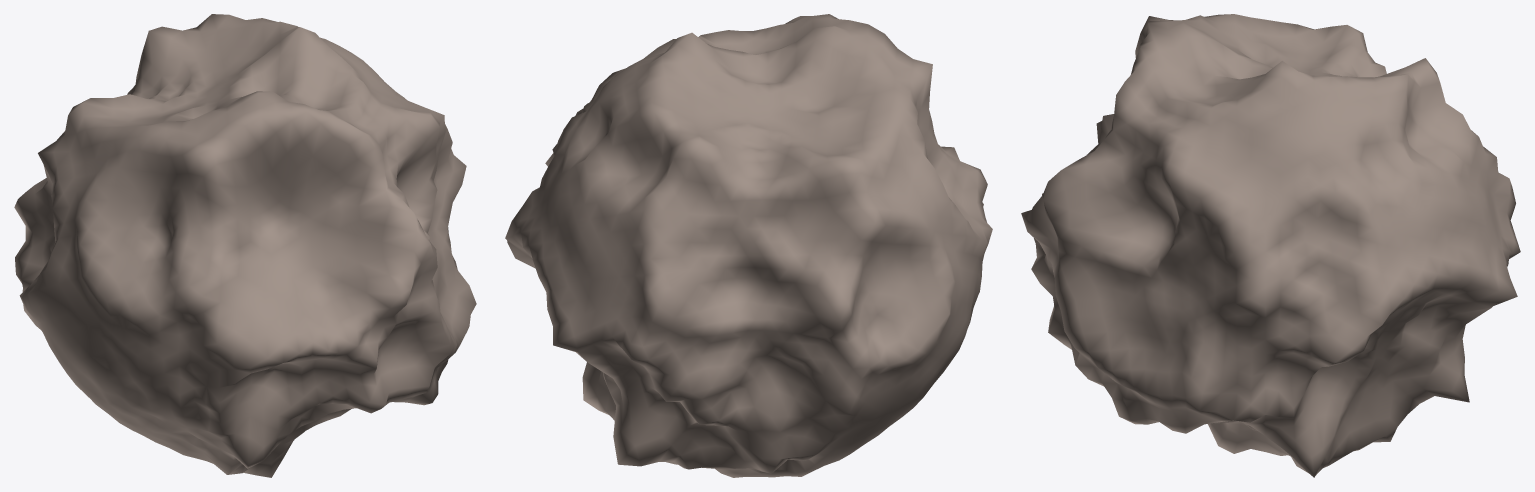
Rendered from Sycorax.fbx.
3 views of the same model, side by side, from view 1: azimuth 30°, elevation 25°; view 2: azimuth 150°, elevation 25°; view 3: azimuth 270°, elevation 25° (orthographic). The views are drawn at different scales.
Parts seen in each view (by area): view 1: SycoraxSurface; view 2: SycoraxSurface; view 3: SycoraxSurface.
Part boxes in pixels (box(x1,y1,x2,y2)): SycoraxSurface: box(14, 14, 476, 477); SycoraxSurface: box(505, 14, 992, 477); SycoraxSurface: box(1021, 14, 1520, 477).
Size of the model in its own units: 2.27 by 2.19 by 2.37.
